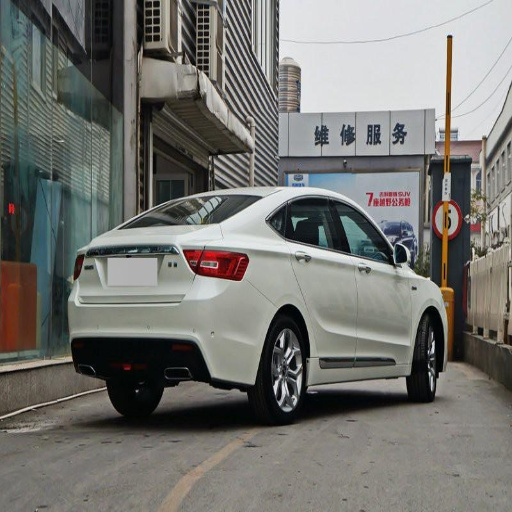back_bumper: (69, 275, 272, 384)
back_right_door: (285, 196, 355, 373)
tailgate: (80, 226, 203, 296)
trunk: (76, 255, 193, 305)
